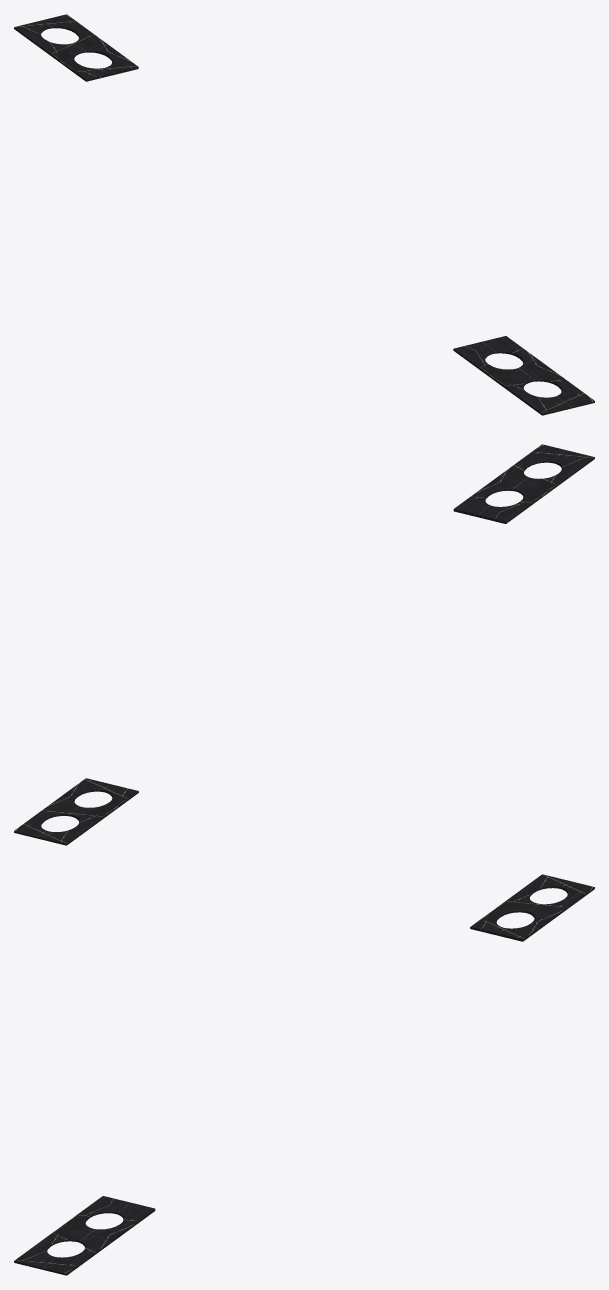
File: Countertops_QuartzEtNoir_.glb
The picture shows the model from 3 angles, top to bottom: view 1: azimuth 30°, elevation 25°; view 2: azimuth 150°, elevation 25°; view 3: azimuth 330°, elevation 25°; orthographic projection.
Visible parts, largest first — view 1: Countertops_Quartz Et Noir_; view 2: Countertops_Quartz Et Noir_; view 3: Countertops_Quartz Et Noir_.
Boxes of the visible parts, bbox=[...] form: Countertops_Quartz Et Noir_: bbox=[14, 14, 594, 415]; Countertops_Quartz Et Noir_: bbox=[14, 444, 594, 845]; Countertops_Quartz Et Noir_: bbox=[14, 874, 594, 1275].
Bounding box in the file's own units: 0.9958 × 0.04 × 17.25.
Materials: 1 (1 with a texture image).
